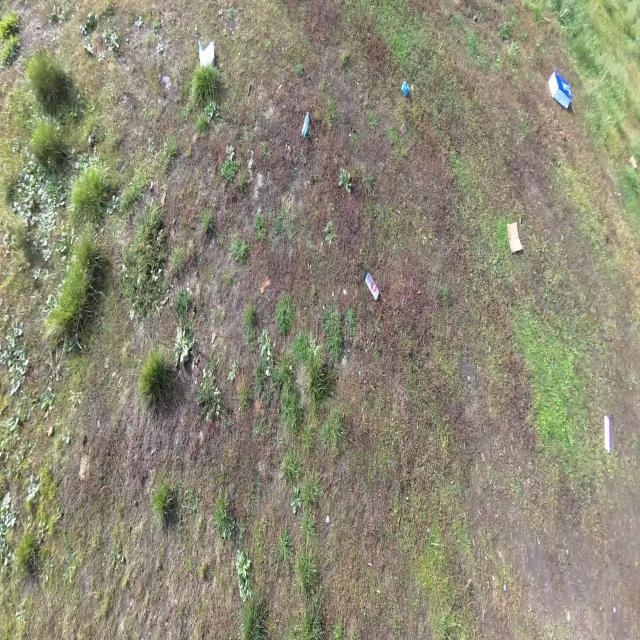rubbish: (548, 70, 573, 111), (363, 268, 381, 302), (507, 220, 524, 254), (198, 38, 215, 70), (301, 110, 310, 138), (604, 414, 610, 455), (400, 79, 410, 97), (628, 153, 637, 168)
